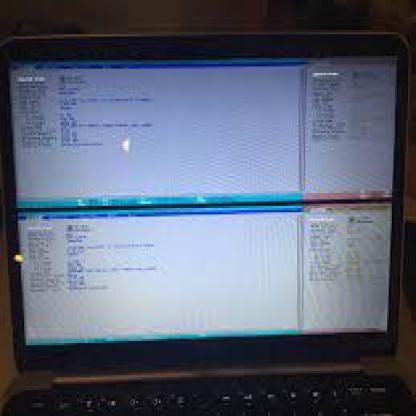spot: (117, 128, 137, 158)
